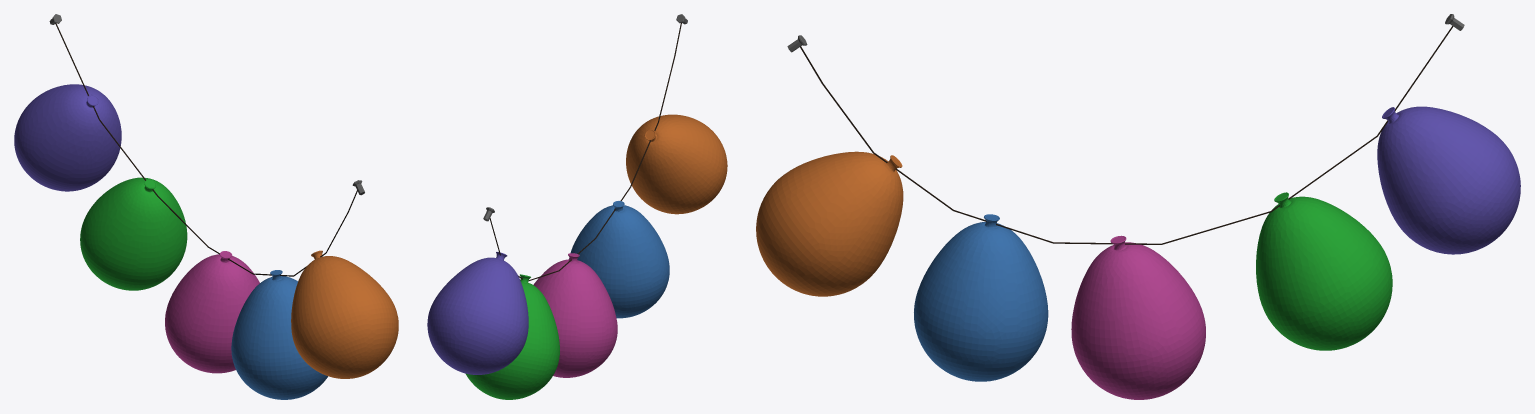
Rendered from Lvl1_balloons.fbx.
The picture shows the model from 3 angles, left to right: view 1: azimuth 30°, elevation 25°; view 2: azimuth 150°, elevation 25°; view 3: azimuth 270°, elevation 25°; orthographic projection. The views are drawn at different scales.
Visible parts, largest first — view 1: Balloon5; view 2: Balloon5; view 3: Balloon5.
Boxes of the visible parts, x1,y1,x2,y2 form: Balloon5: (14, 14, 398, 399); Balloon5: (427, 14, 727, 399); Balloon5: (756, 14, 1520, 399).
Size of the model in its own units: 3.17 by 6.69 by 12.73.
